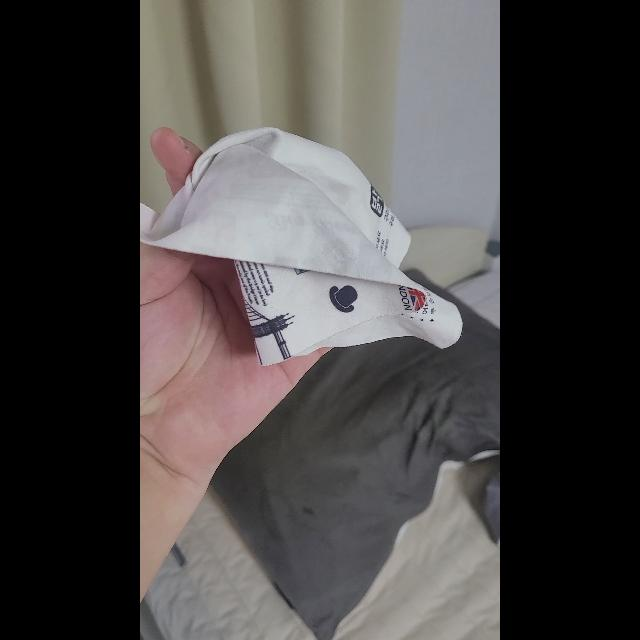Glasses cleaning cloth: (140, 127, 462, 365)
